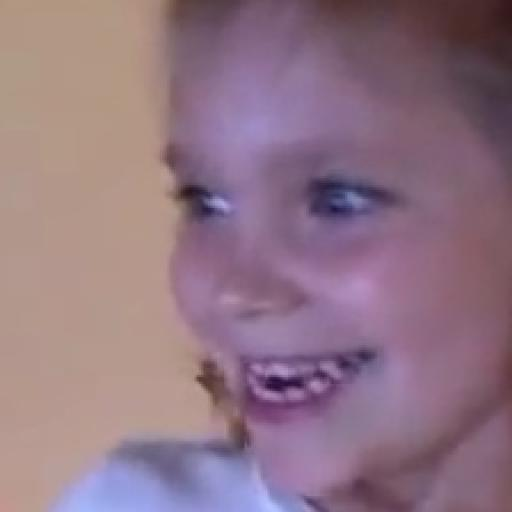Autism: (80, 2, 510, 512)
